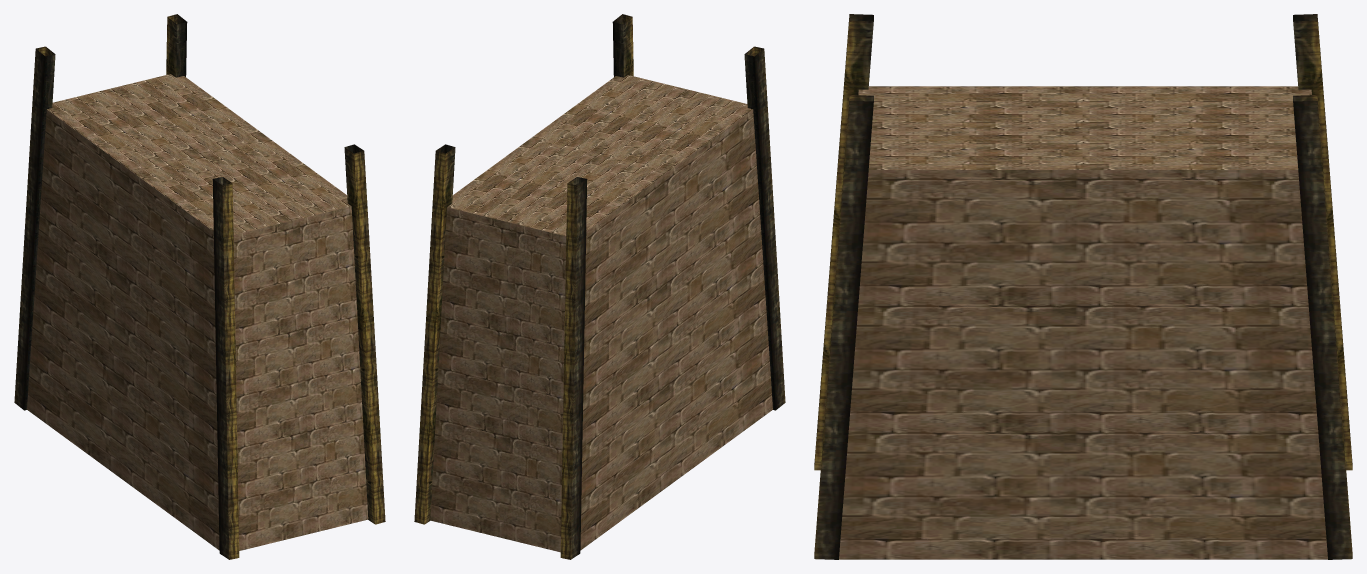
Rendered from CB_NEWPLAYSURFACE_TOWERWALL02.fbx.
The picture shows the model from 3 angles, left to right: view 1: azimuth 30°, elevation 25°; view 2: azimuth 150°, elevation 25°; view 3: azimuth 270°, elevation 25°; orthographic projection. The views are drawn at different scales.
Visible parts, largest first — view 1: CB_NEWPLAYSURFACE_TOWERWALL02; view 2: CB_NEWPLAYSURFACE_TOWERWALL02; view 3: CB_NEWPLAYSURFACE_TOWERWALL02.
Part boxes in pixels (<box>): CB_NEWPLAYSURFACE_TOWERWALL02: <box>14,14,385,559</box>; CB_NEWPLAYSURFACE_TOWERWALL02: <box>414,14,785,559</box>; CB_NEWPLAYSURFACE_TOWERWALL02: <box>814,14,1352,559</box>.
Size of the model in its own units: 27672 by 61538 by 65922.
Materials: 2 (2 with a texture image).
